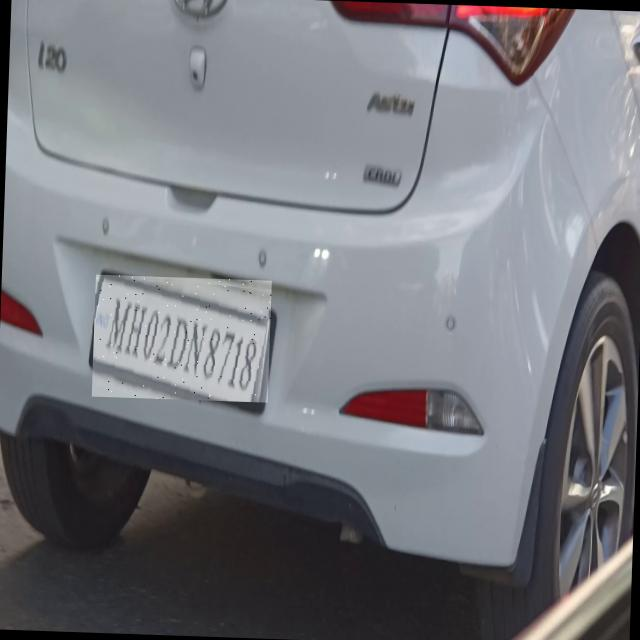Plate: (93, 275, 273, 403)
